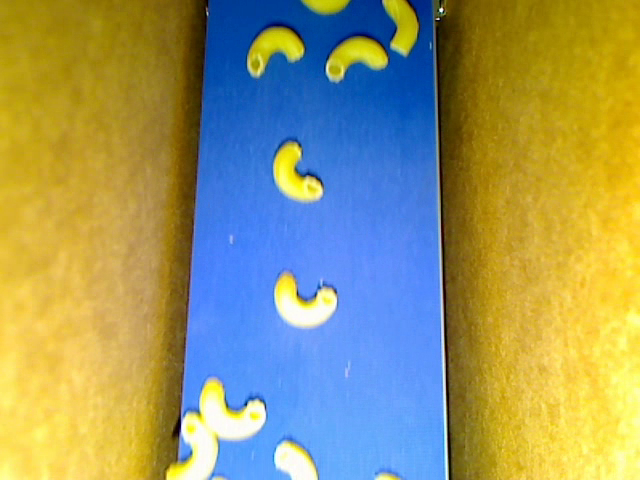elbow: (198, 374, 267, 442), (273, 270, 338, 329), (164, 411, 220, 479), (273, 140, 323, 203), (246, 26, 304, 78), (327, 35, 388, 84), (381, 1, 419, 58), (273, 439, 318, 479), (300, 1, 352, 17)
